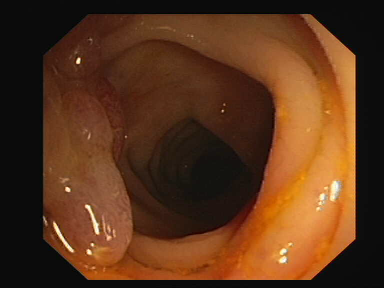polyp: (44, 72, 149, 266)
